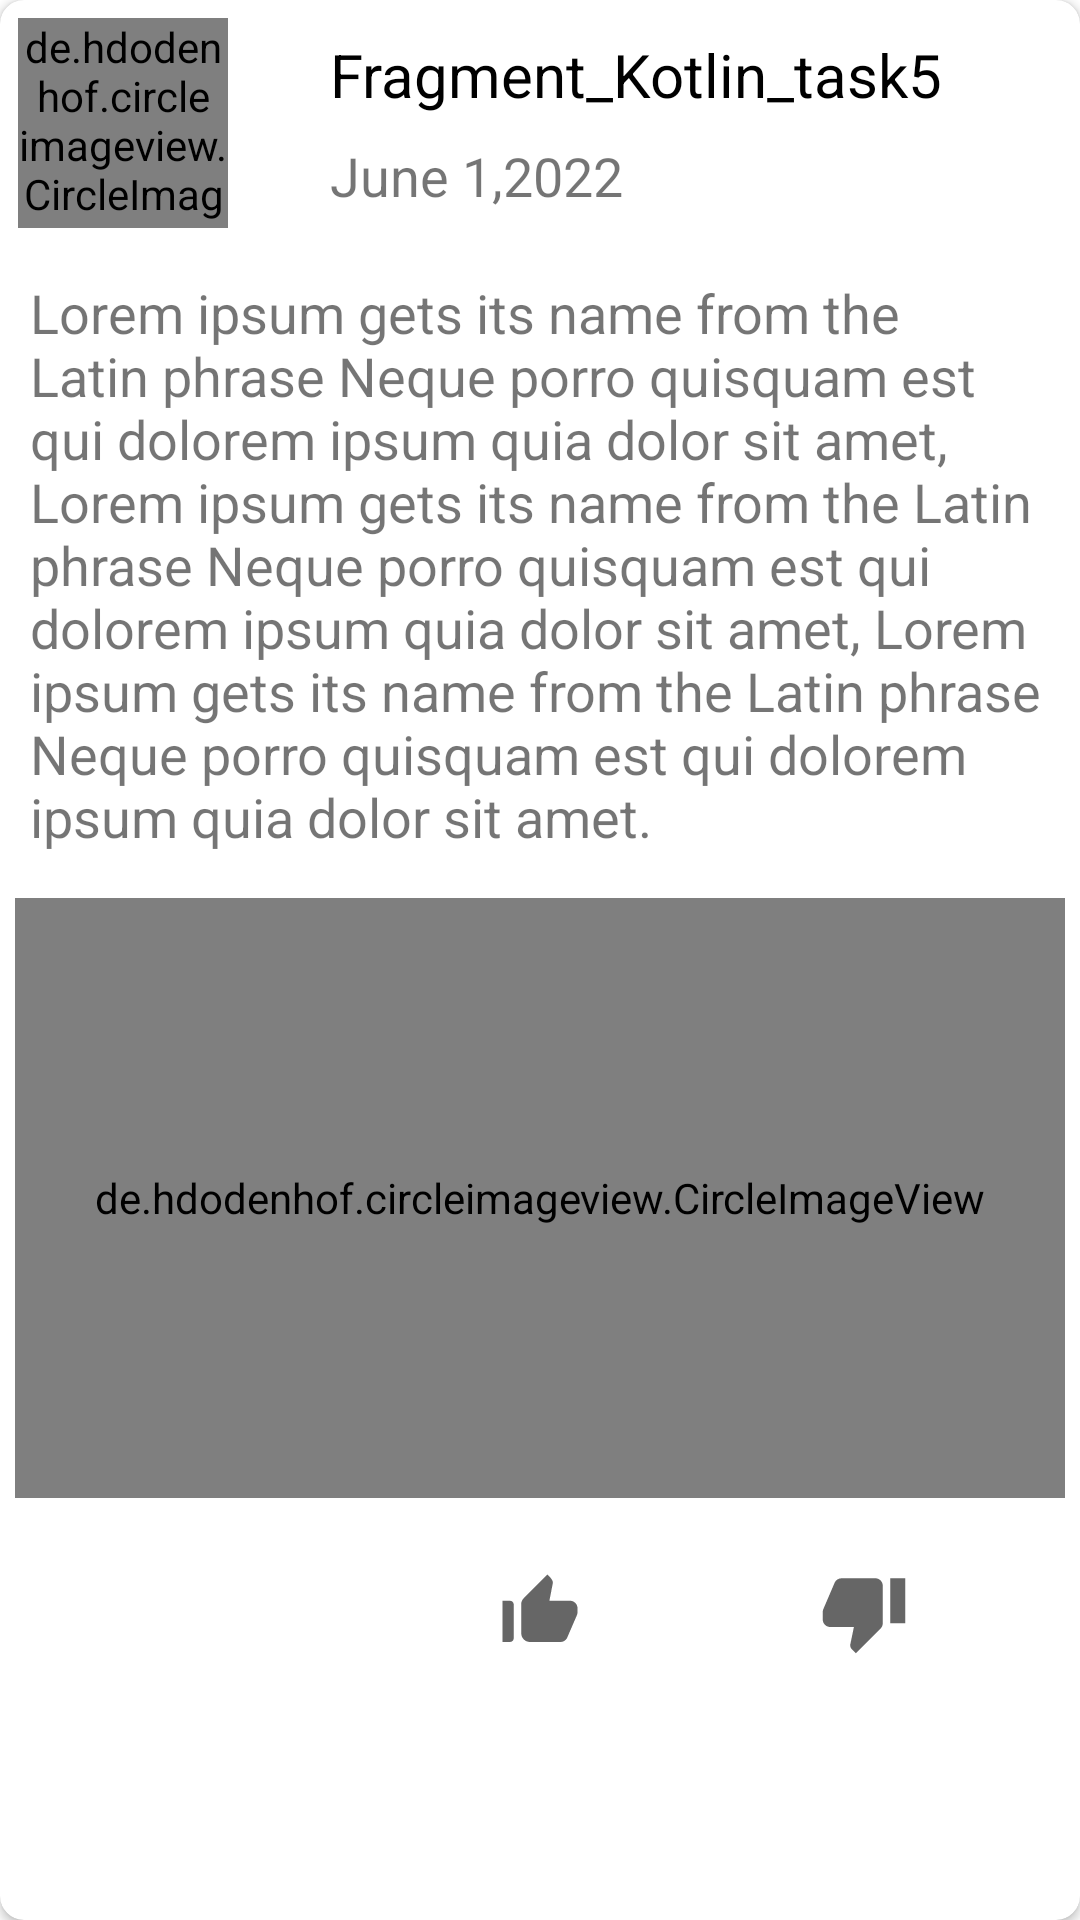

Icon click points for this 1080x1920 phone screenshot, format (x=x, y=y):
thumb down: (x=864, y=1615)
thumb up: (x=540, y=1608)
